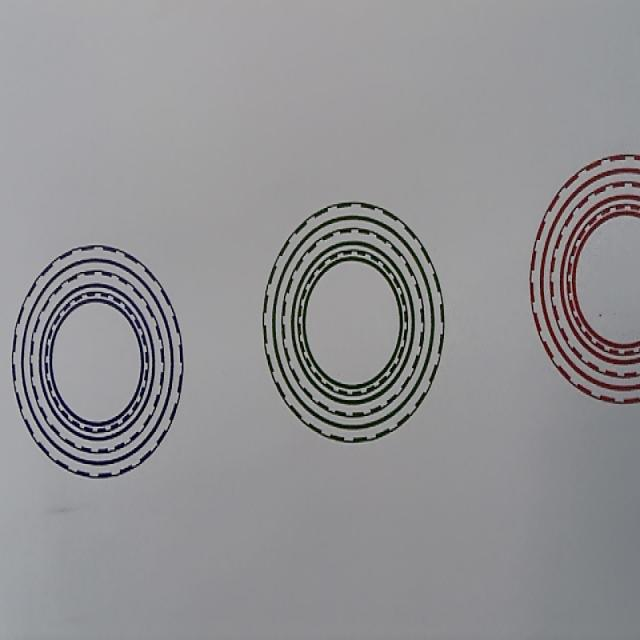b: (12, 244, 185, 480)
g: (262, 200, 445, 443)
